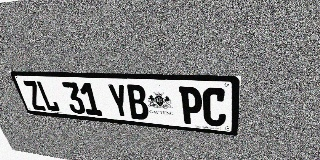1: (77, 82, 103, 116)
3: (61, 82, 87, 114)
B: (125, 84, 150, 120)
C: (203, 87, 227, 127)
L: (35, 81, 61, 112)
P: (179, 86, 202, 125)
Y: (106, 84, 131, 118)
Z: (22, 80, 47, 111)
